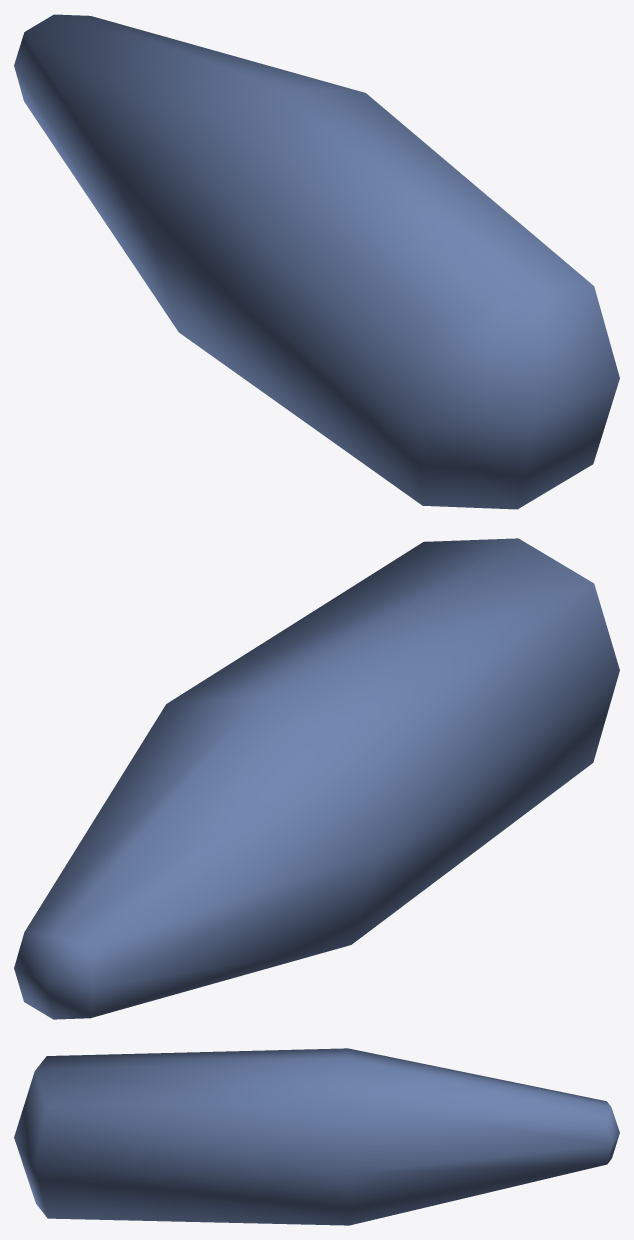
The model's file is UpperLegLeft.dae.
3 renders of one model, top to bottom at view 1: azimuth 30°, elevation 25°; view 2: azimuth 150°, elevation 25°; view 3: azimuth 270°, elevation 25°, orthographic. The views are drawn at different scales.
Parts seen in each view (by area): view 1: UpperLeg_L; view 2: UpperLeg_L; view 3: UpperLeg_L.
Part boxes in pixels (box(x1,y1,x2,y2)): UpperLeg_L: box(14, 14, 619, 509); UpperLeg_L: box(14, 538, 619, 1019); UpperLeg_L: box(14, 1048, 619, 1225).
Size of the model in its own units: 0.1233 by 0.4337 by 0.1233.
